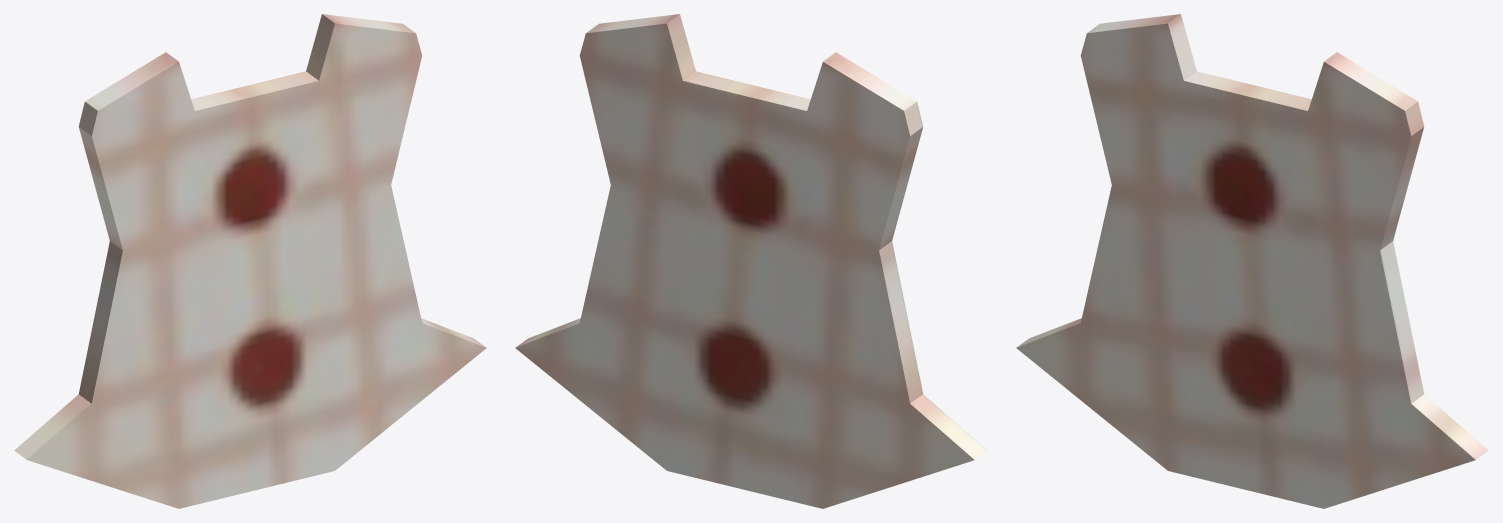
File: cloth5.fbx
3 views of the same model, side by side, from view 1: azimuth 30°, elevation 25°; view 2: azimuth 150°, elevation 25°; view 3: azimuth 330°, elevation 25° (orthographic).
Parts seen in each view (by area): view 1: Plane.089; view 2: Plane.089; view 3: Plane.089.
Part boxes in pixels (bbox=[...]): Plane.089: bbox=[14, 14, 486, 508]; Plane.089: bbox=[515, 14, 987, 508]; Plane.089: bbox=[1016, 14, 1488, 508].
Size of the model in its own units: 27.65 by 25.71 by 1.36.
Materials: 1 (1 with a texture image).
